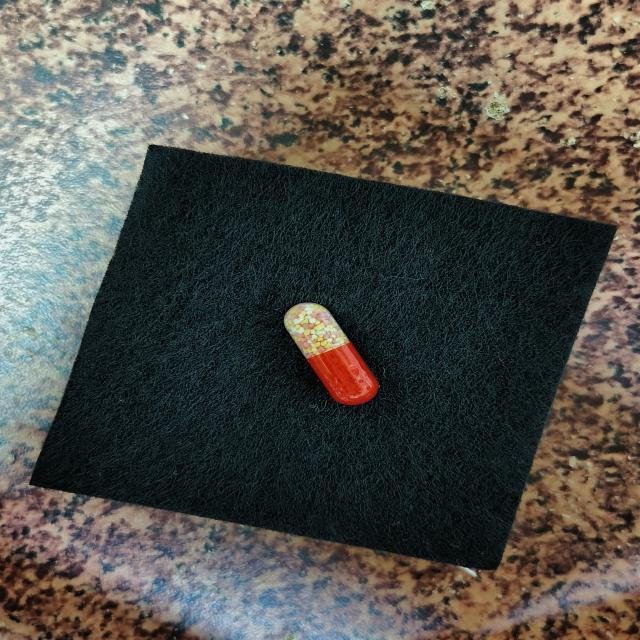Intact Capsule: (284, 302, 379, 405)
